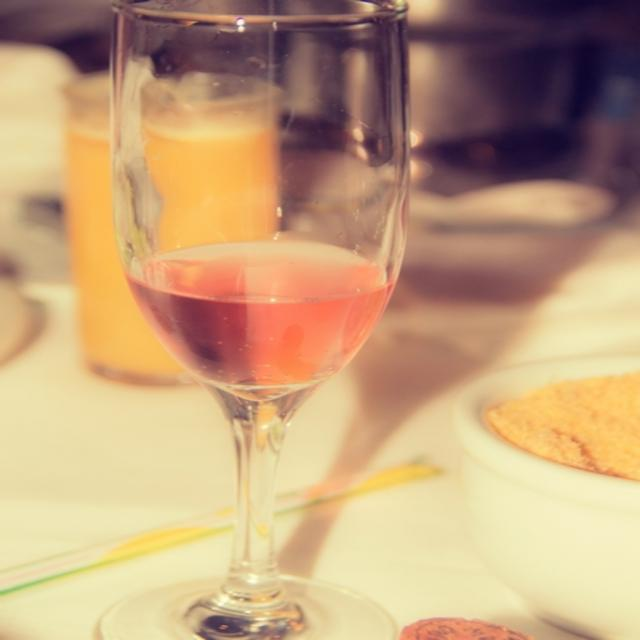Juice: (61, 110, 275, 388), (117, 240, 397, 392)
